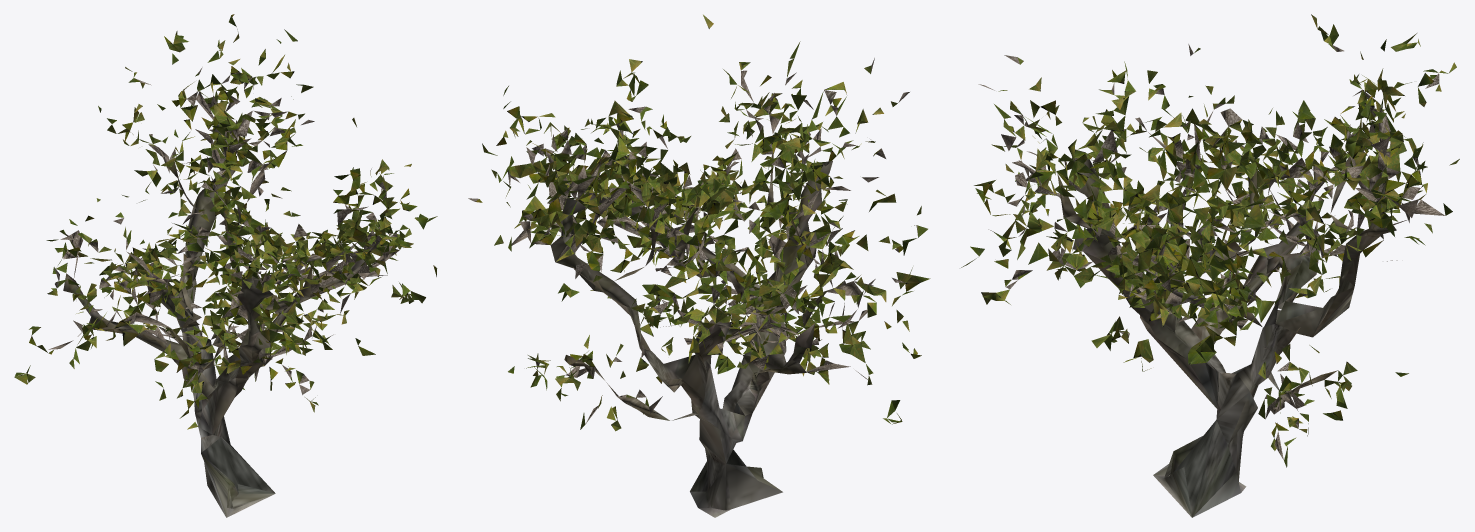
File: island_tree_01_lod.glb
3 views of the same model, side by side, from view 1: azimuth 30°, elevation 25°; view 2: azimuth 150°, elevation 25°; view 3: azimuth 270°, elevation 25° (orthographic). The views are drawn at different scales.
Parts seen in each view (by area): view 1: island_tree_01_LOD0; view 2: island_tree_01_LOD0; view 3: island_tree_01_LOD0.
Part boxes in pixels (x1,y1,x2,y2): island_tree_01_LOD0: [14, 14, 437, 517]; island_tree_01_LOD0: [468, 14, 930, 517]; island_tree_01_LOD0: [961, 14, 1459, 517].
Size of the model in its own units: 6.88 by 7.23 by 6.56.
Materials: 3 (3 with a texture image).
